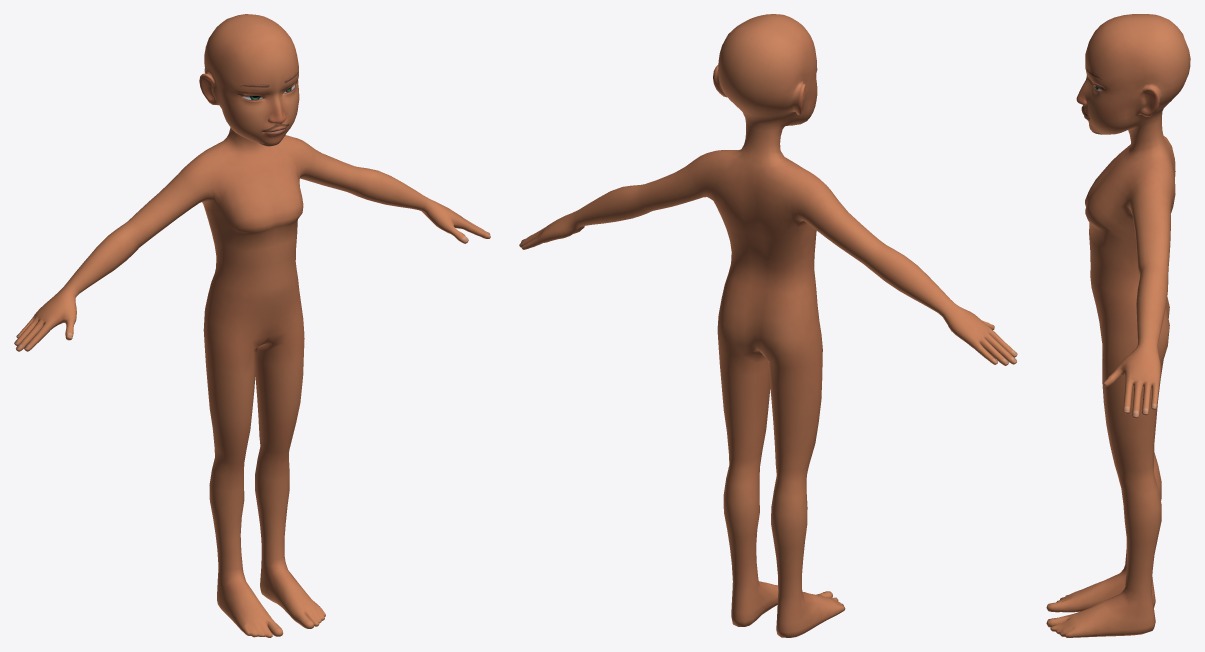
The model's file is frame_0018.glb.
The picture shows the model from 3 angles, left to right: view 1: azimuth 30°, elevation 25°; view 2: azimuth 150°, elevation 25°; view 3: azimuth 270°, elevation 25°; orthographic projection. The views are drawn at different scales.
Visible parts, largest first — view 1: frame_0018_head_geo; view 2: frame_0018_head_geo; view 3: frame_0018_head_geo.
Part boxes in pixels (x1,y1,x2,y2): frame_0018_head_geo: [14, 14, 490, 637]; frame_0018_head_geo: [519, 14, 1017, 637]; frame_0018_head_geo: [1046, 14, 1190, 637].
Bounding box in the file's own units: 1.28 × 1.5 × 0.3253.
Materials: 3 (3 with a texture image).
